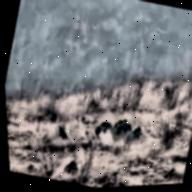boar: (122, 118, 147, 158), (49, 118, 79, 150), (115, 115, 136, 140), (97, 115, 115, 135)
